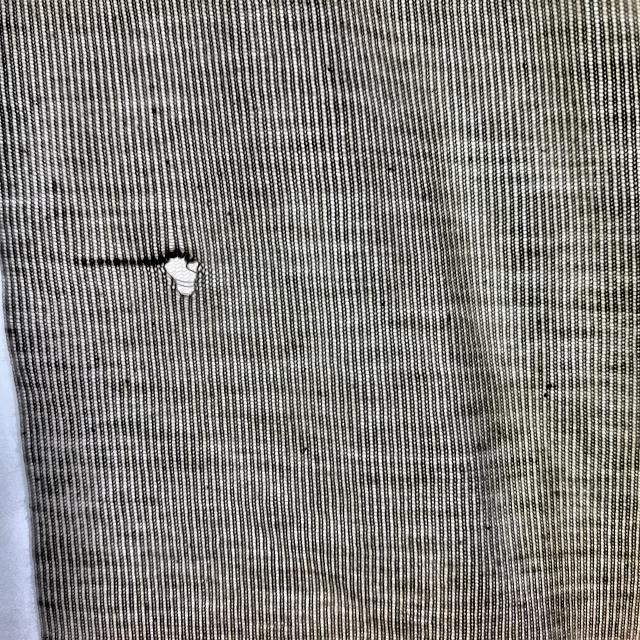Hole: (156, 241, 213, 295)
